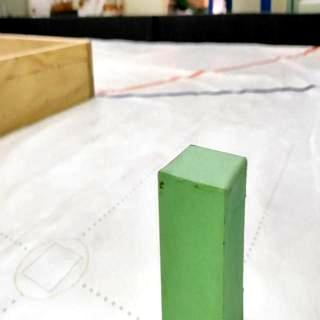greenbox: (157, 140, 250, 320)
